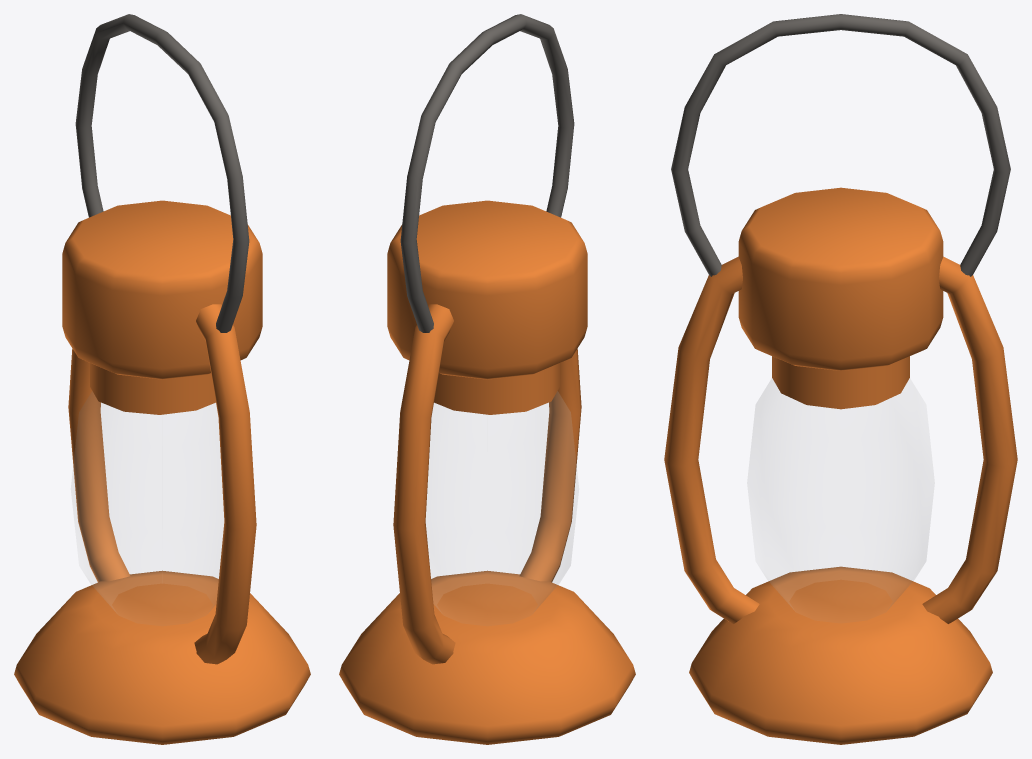
The model's file is lamp.fbx.
3 renders of one model, left to right at view 1: azimuth 30°, elevation 25°; view 2: azimuth 150°, elevation 25°; view 3: azimuth 270°, elevation 25°, orthographic. The views are drawn at different scales.
Visible parts, largest first — view 1: Base, Cylinder.001, Sphere, Torus, Torus.001, Cylinder; view 2: Base, Cylinder.001, Sphere, Torus, Torus.001, Cylinder; view 3: Base, Sphere, Cylinder.001, Torus, Torus.001, Cylinder.
Part boxes in pixels (box(x1,y1,x2,y2)): Base: box(14, 570, 310, 744); Cylinder.001: box(62, 200, 262, 379); Sphere: box(71, 392, 223, 611); Torus: box(68, 304, 256, 664); Torus.001: box(75, 14, 249, 332); Cylinder: box(90, 363, 215, 414); Base: box(339, 570, 635, 744); Cylinder.001: box(387, 200, 587, 379); Sphere: box(426, 392, 578, 611); Torus: box(393, 304, 581, 664); Torus.001: box(400, 14, 574, 332); Cylinder: box(434, 363, 559, 414); Base: box(689, 566, 992, 744); Sphere: box(747, 379, 934, 608); Cylinder.001: box(738, 187, 943, 370); Torus: box(664, 256, 1017, 623); Torus.001: box(671, 14, 1010, 276); Cylinder: box(772, 356, 909, 409).
Size of the model in its own units: 17.8 by 43.48 by 20.7.
